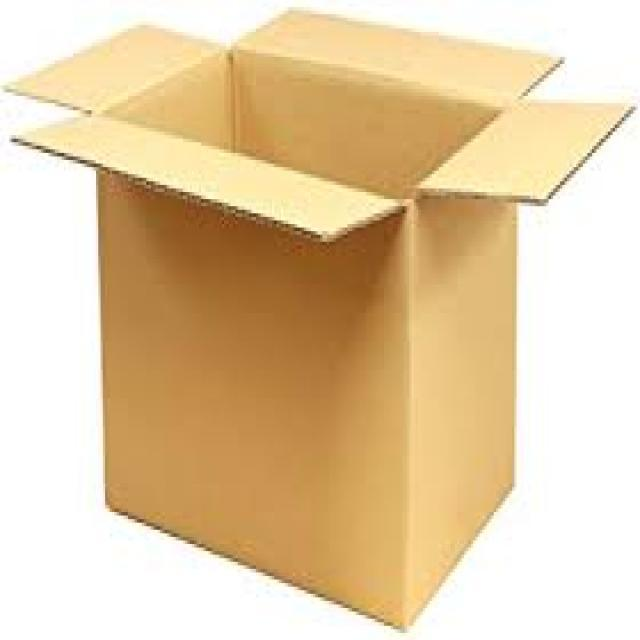Cardboard: (3, 9, 636, 630)
